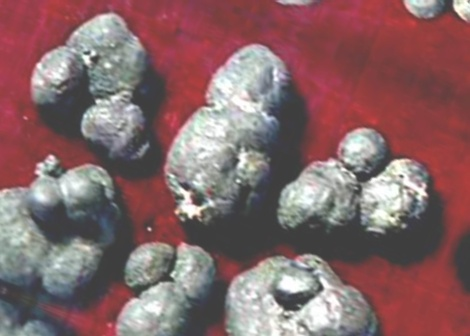halobolite: (145, 24, 318, 249), (278, 113, 429, 246), (29, 19, 166, 158), (1, 163, 125, 314), (224, 254, 377, 336), (118, 239, 212, 336)
